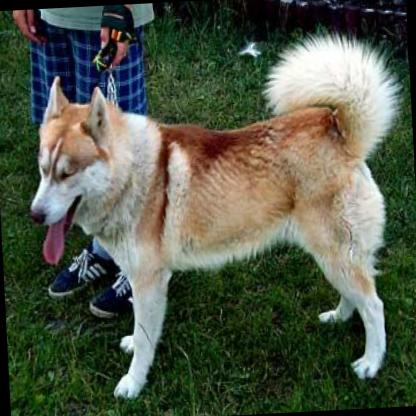Siberian_husky: (16, 25, 416, 402)
